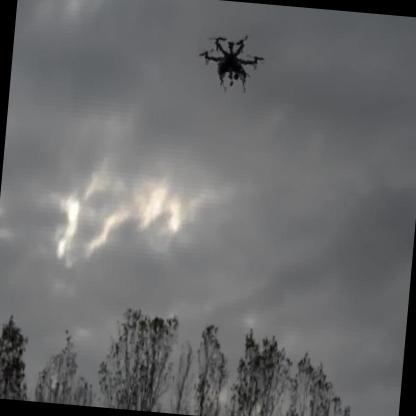drone: (194, 24, 272, 107)
